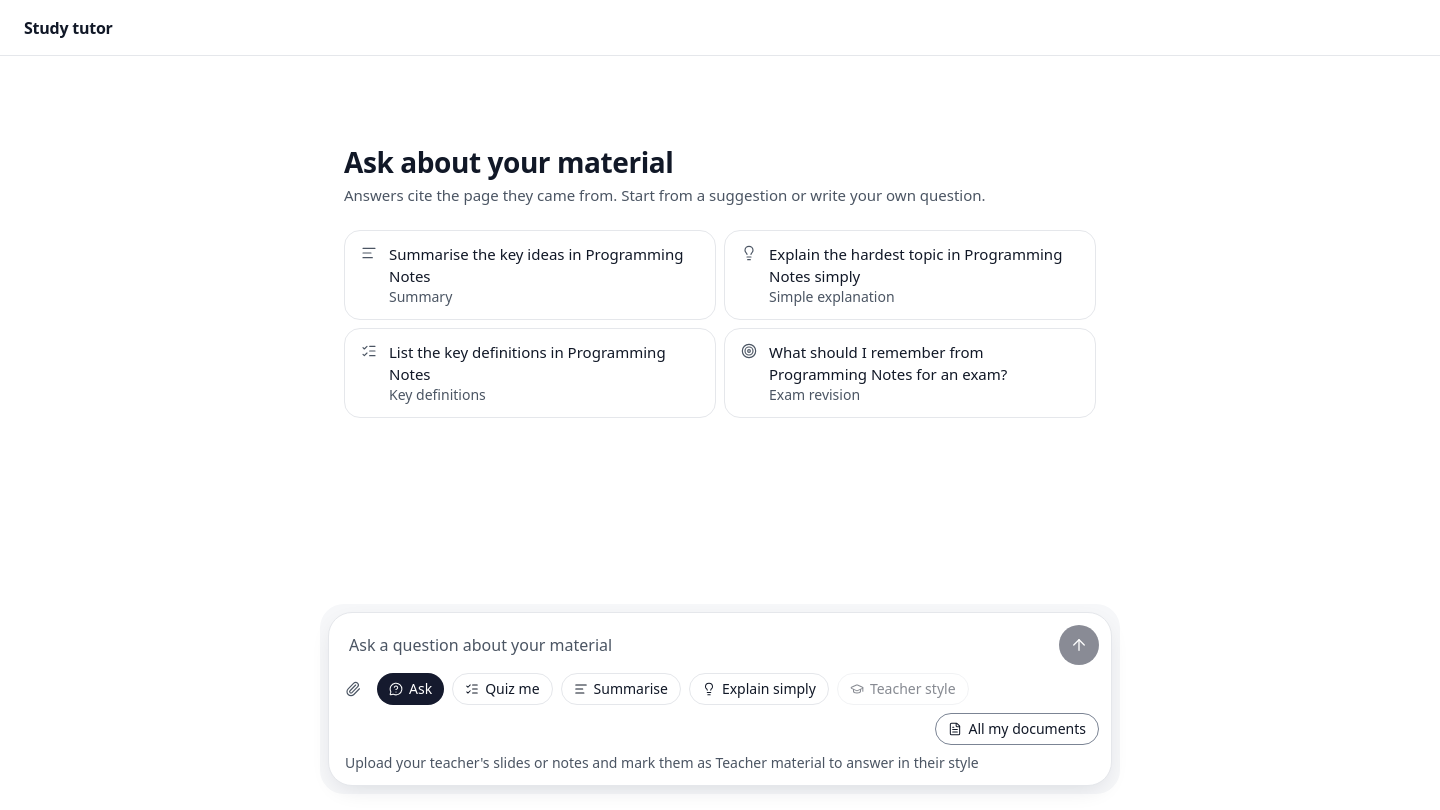
Test: TutorView: sending › quizzes the whole material when no topic is given, and says so when the quiz cannot be made
Click the button "Quiz me": click(502, 689) top-left (452, 673), bottom-right (552, 705)
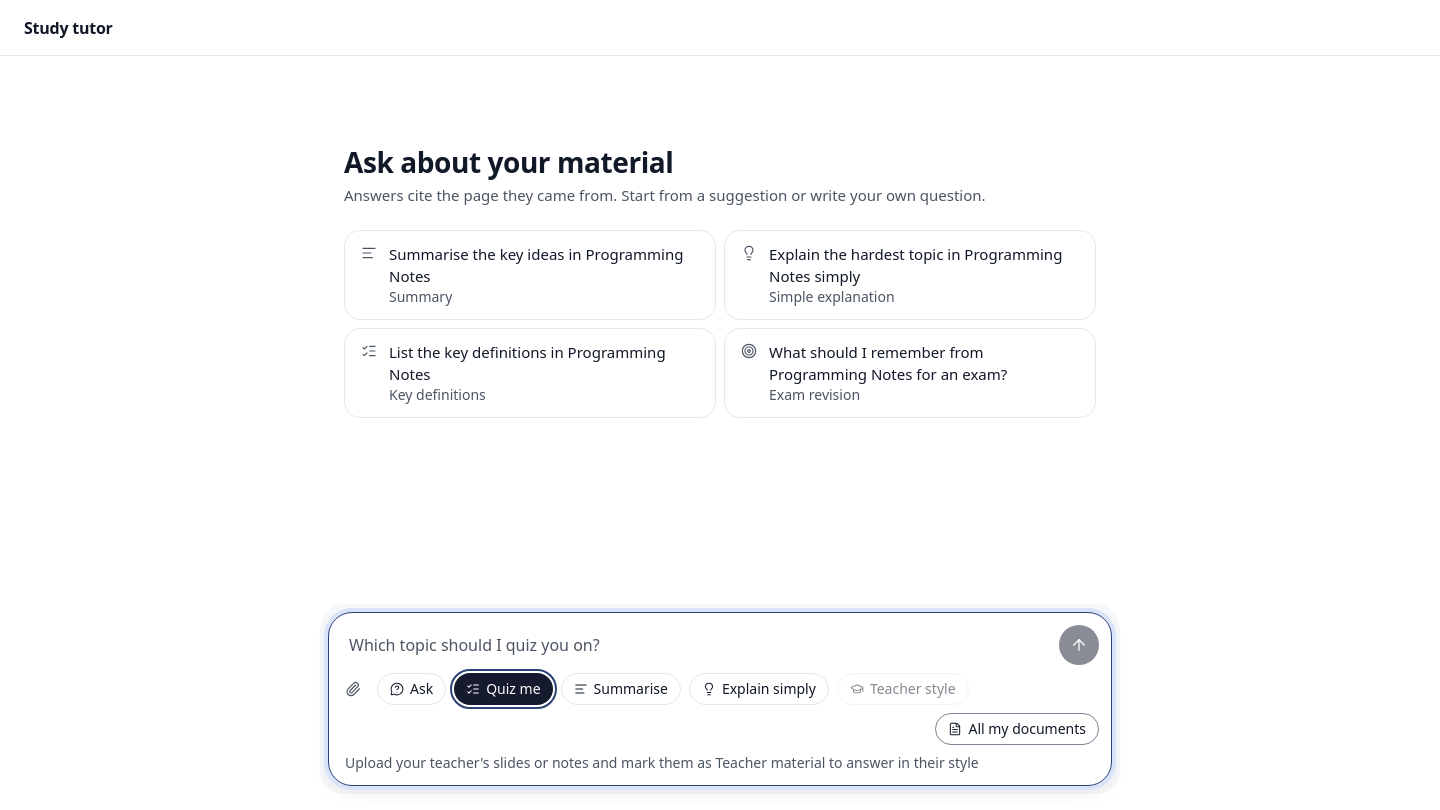
In the text box named "Your question": (694, 645) top-left (341, 625), bottom-right (1047, 665), type "quiz me all topic maximum 10 quiz"
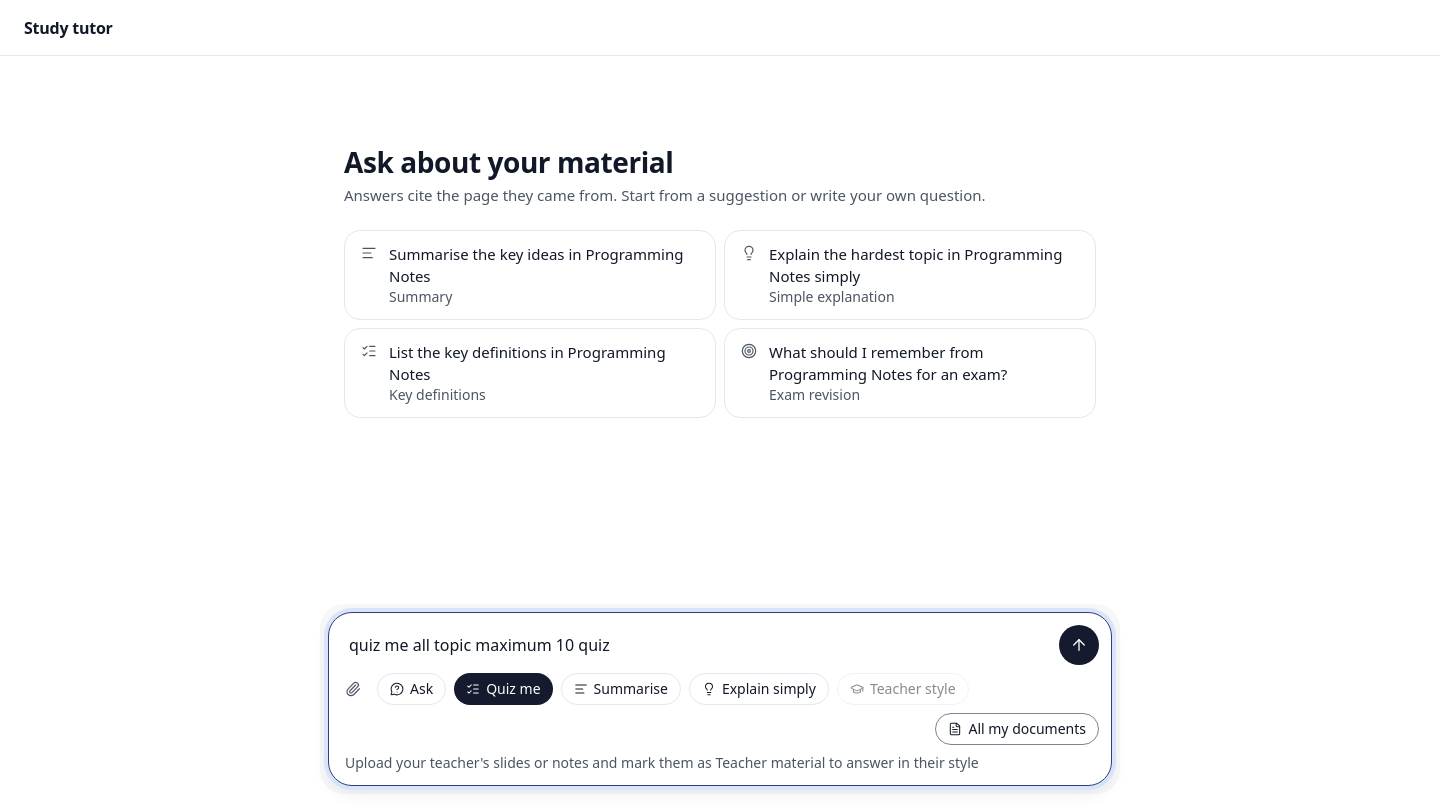
Click the button named "Send question": click(1079, 645) top-left (1059, 625), bottom-right (1099, 665)
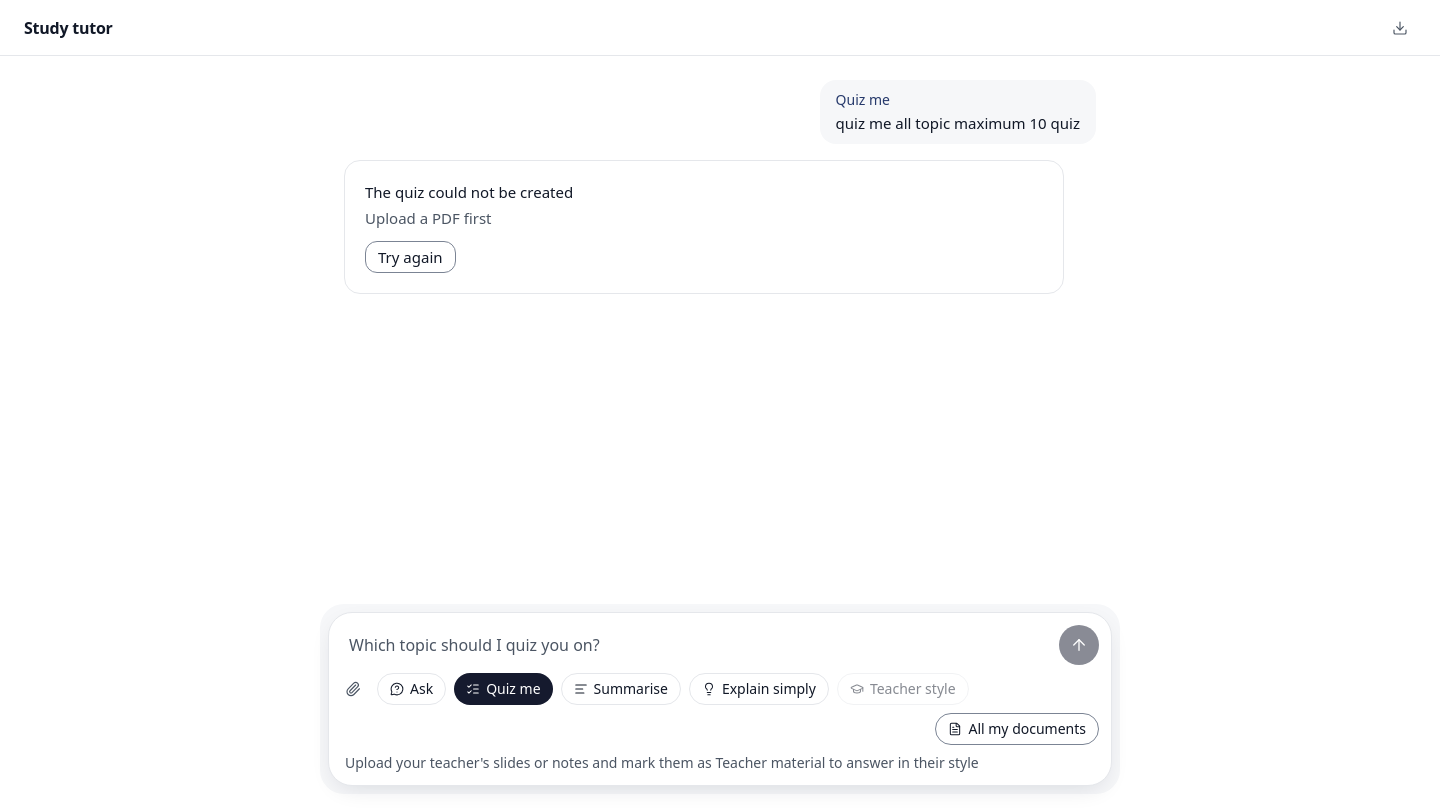
Expected: the text "Upload a PDF first" is shown, top-left (365, 208), bottom-right (492, 228)
Expected: the button "Try again" is shown, top-left (365, 241), bottom-right (456, 273)
